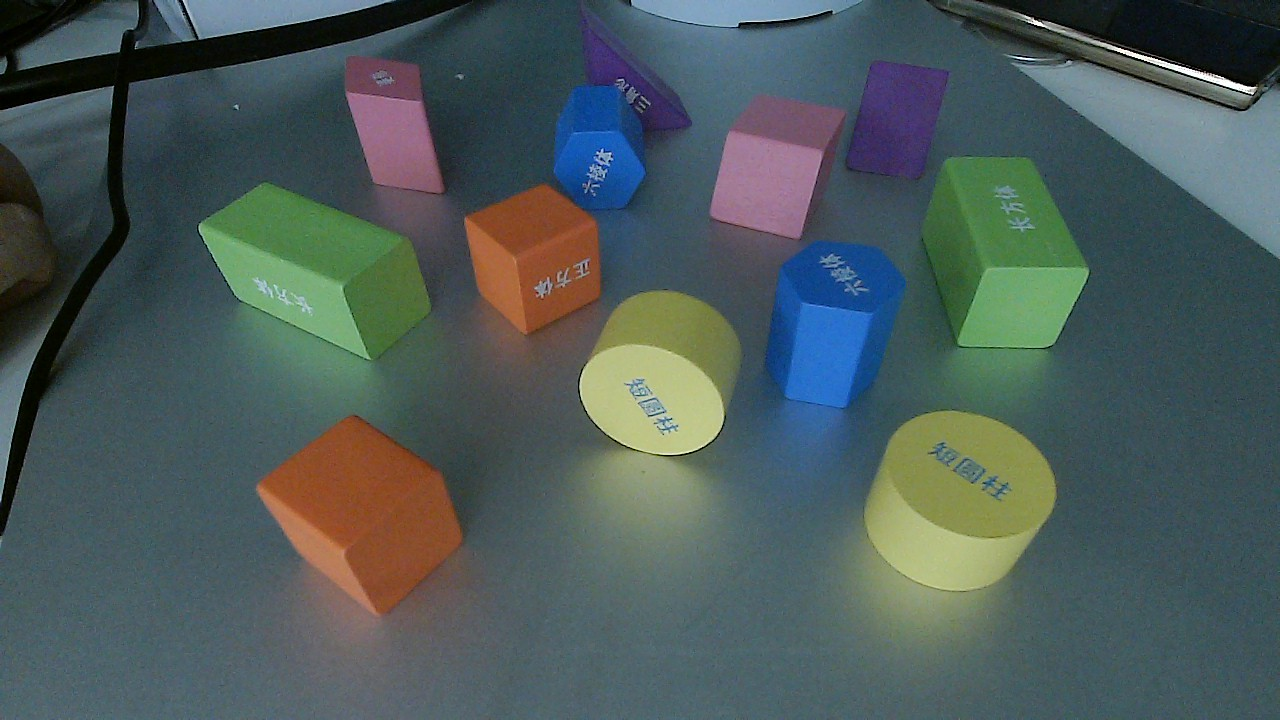circle: (860, 408, 1061, 594), (579, 291, 741, 455)
diamond: (710, 95, 849, 243), (341, 53, 445, 193)
hexagon: (764, 239, 907, 411), (551, 84, 651, 214)
rectangle: (197, 179, 438, 366), (919, 158, 1090, 351)
square: (255, 414, 466, 620), (462, 179, 606, 335)
triangle: (579, 1, 692, 135), (842, 60, 948, 183)
